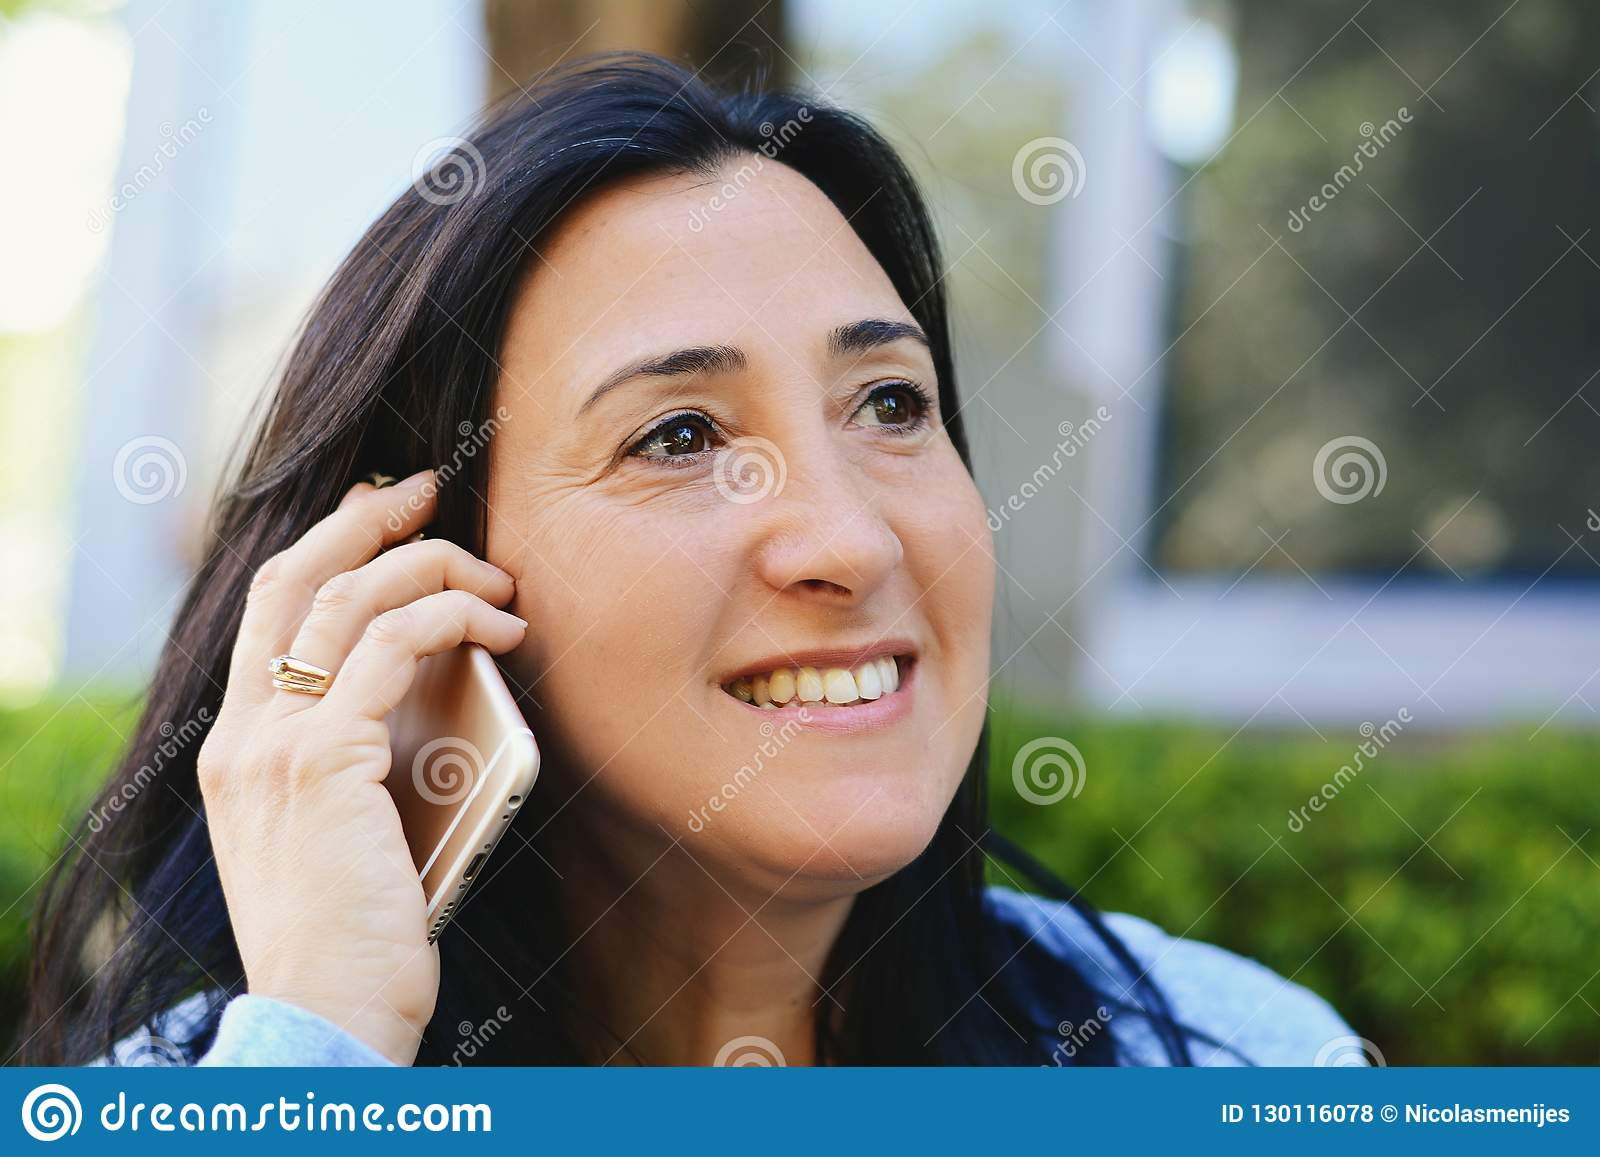phone: (311, 471, 548, 925)
talk: (193, 309, 998, 1017)
